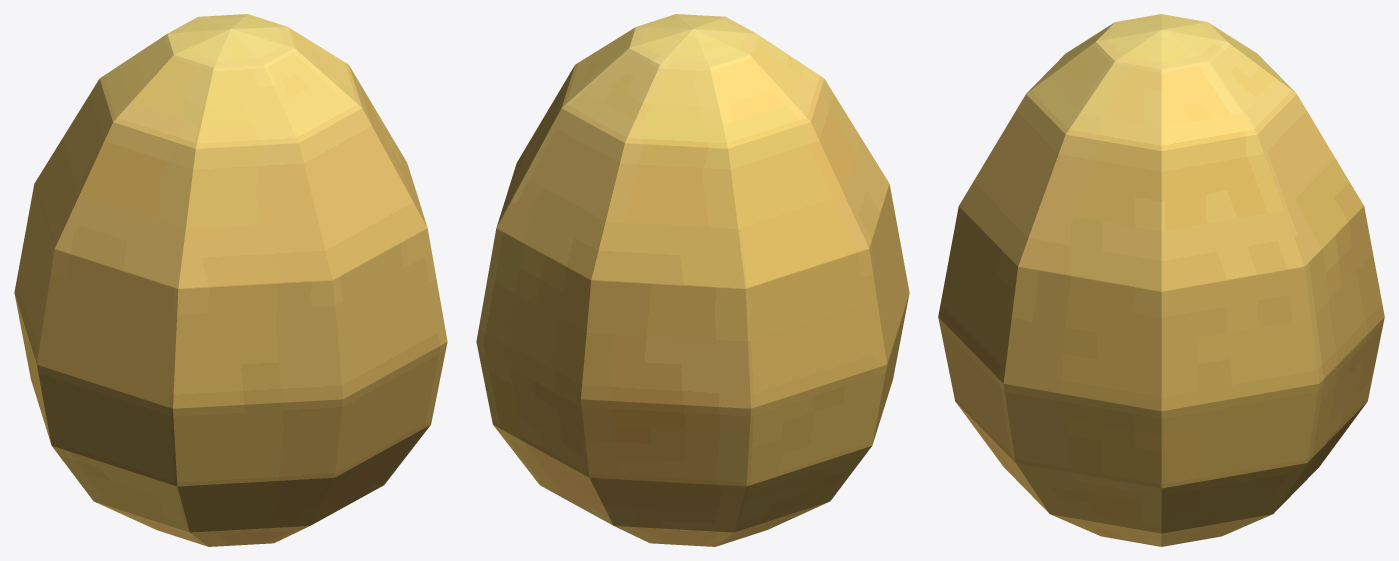
File: item_egg_easter_yellow.glb
3 renders of one model, left to right at view 1: azimuth 30°, elevation 25°; view 2: azimuth 150°, elevation 25°; view 3: azimuth 270°, elevation 25°, orthographic.
Visible parts, largest first — view 1: Egg_A; view 2: Egg_A; view 3: Egg_A.
Part boxes in pixels (box(x1,y1,x2,y2)): Egg_A: box(14, 14, 447, 546); Egg_A: box(476, 14, 909, 546); Egg_A: box(938, 14, 1384, 546).
Size of the model in its own units: 0.2454 by 0.3009 by 0.2454.
1 material, 1 textured.
